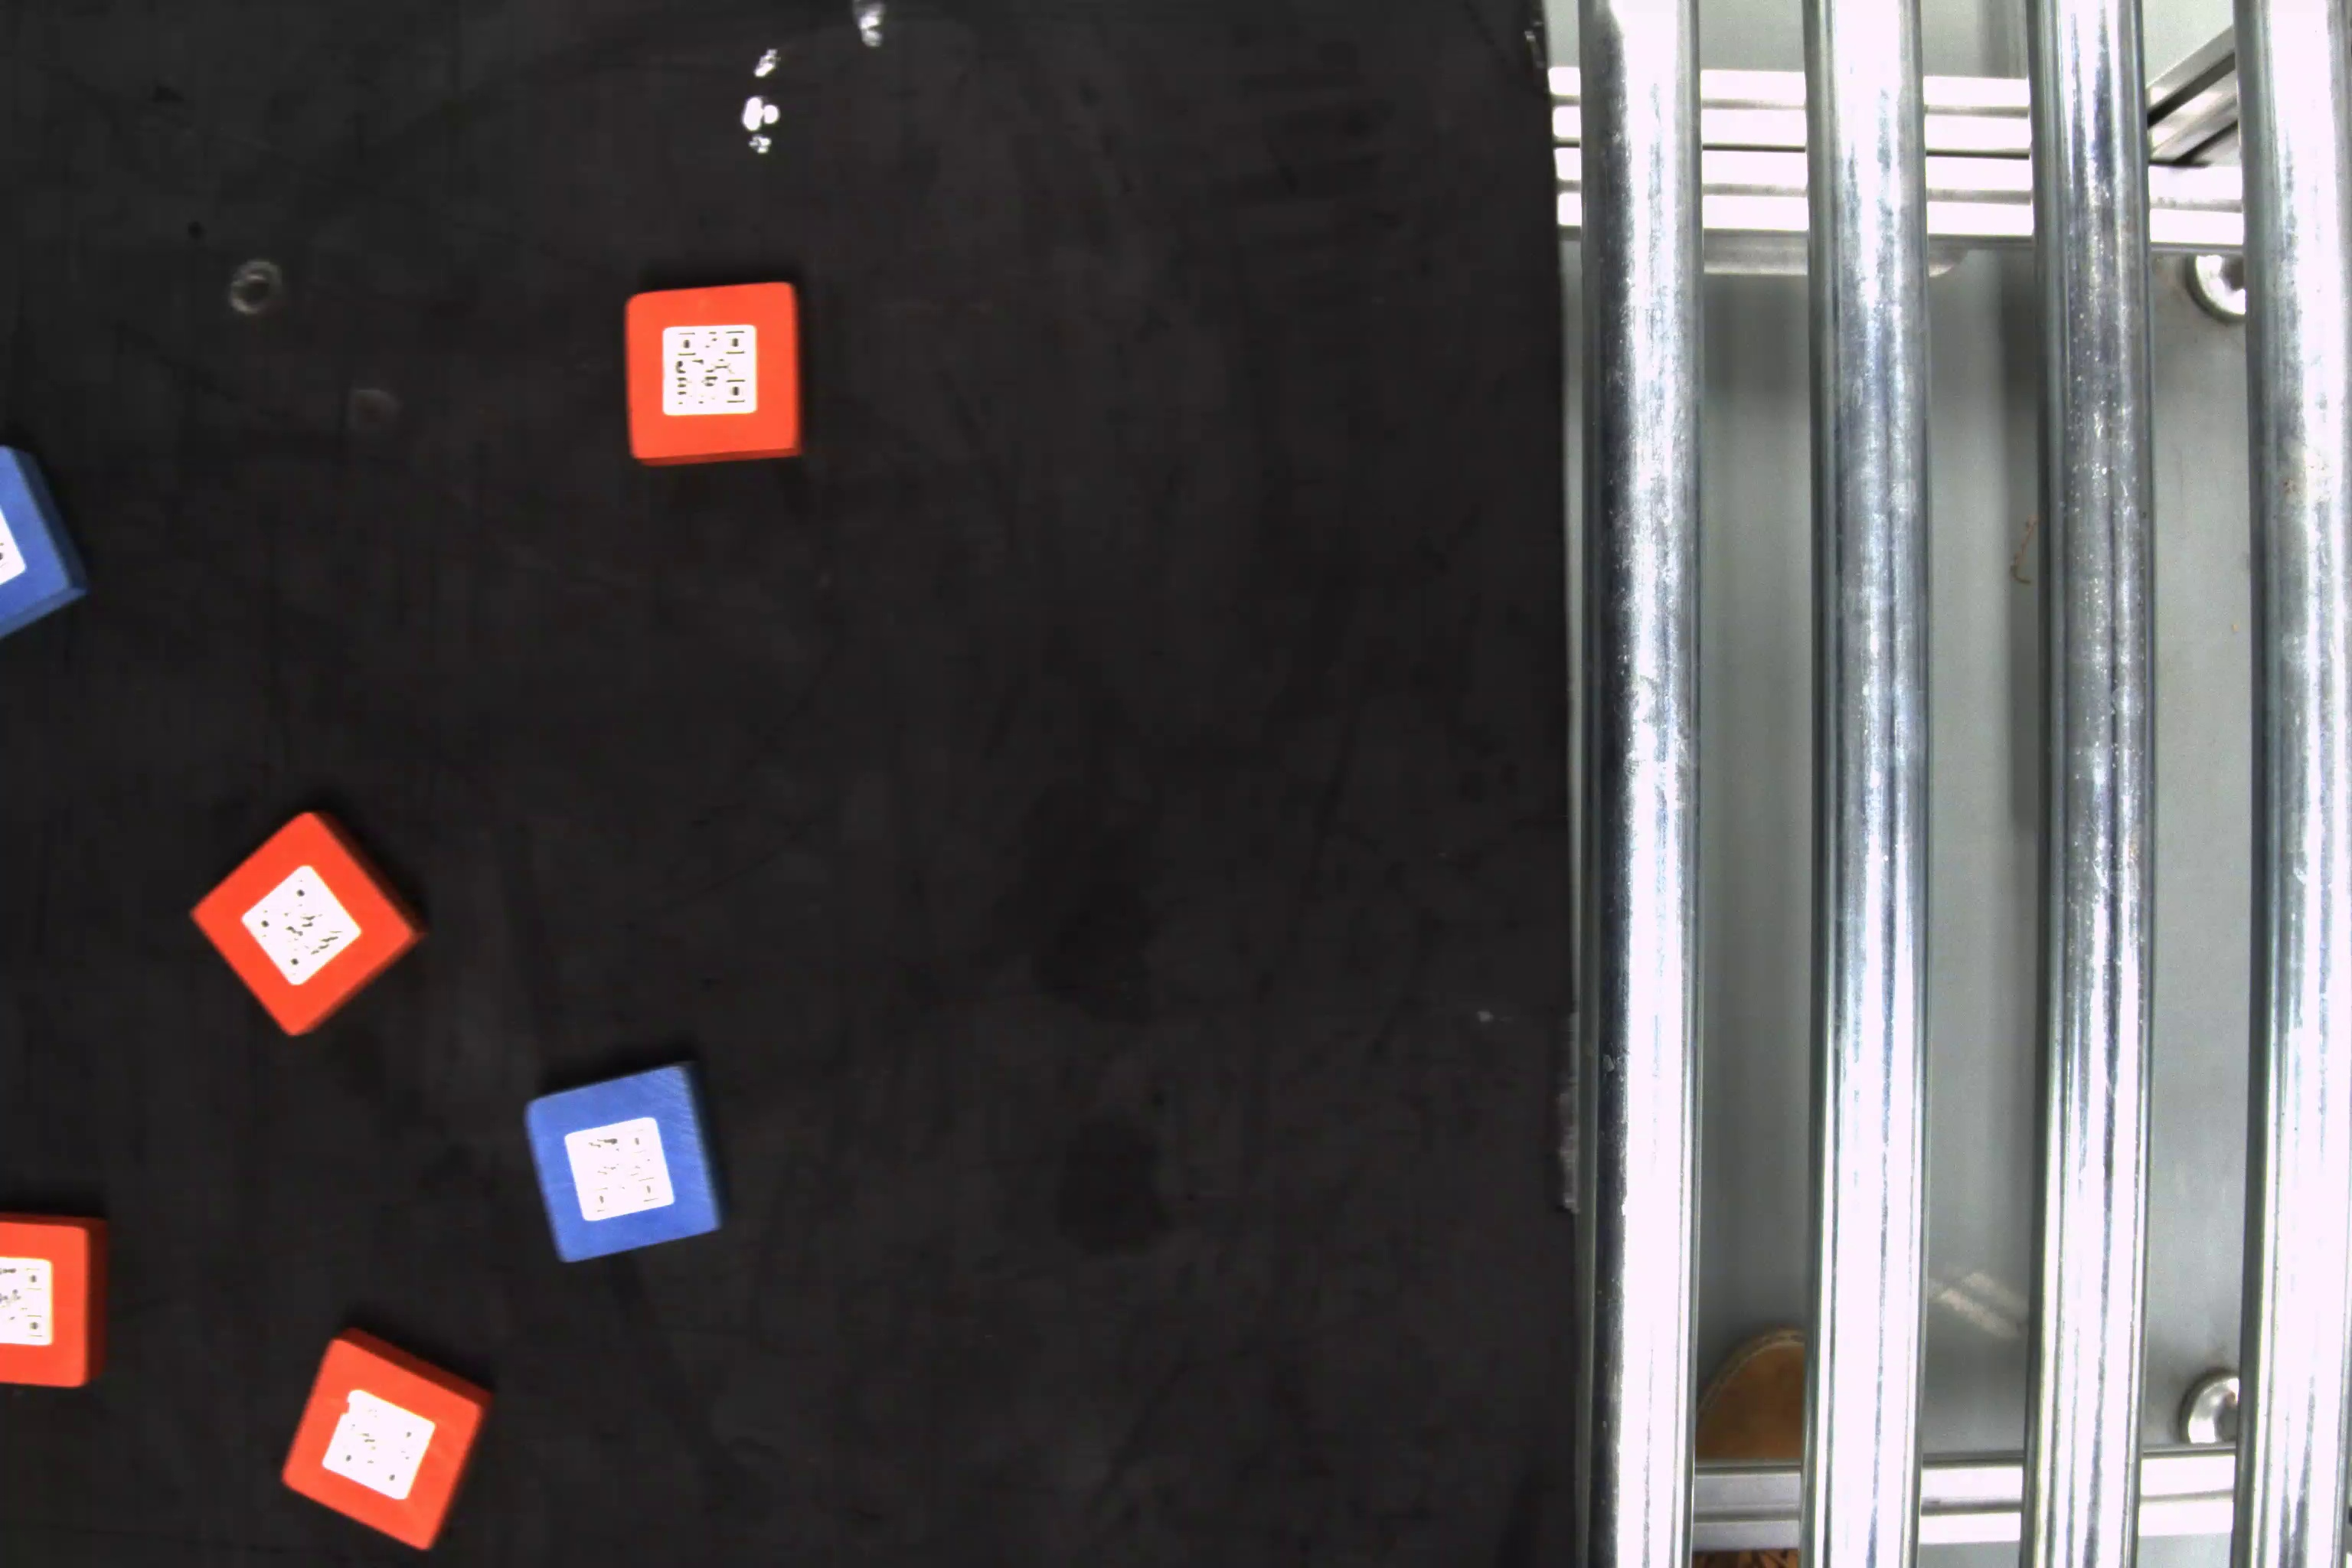wood: (192, 807, 429, 1041), (261, 1332, 504, 1556), (532, 1029, 728, 1281), (623, 280, 810, 467), (5, 1193, 110, 1398), (2, 437, 94, 644)
